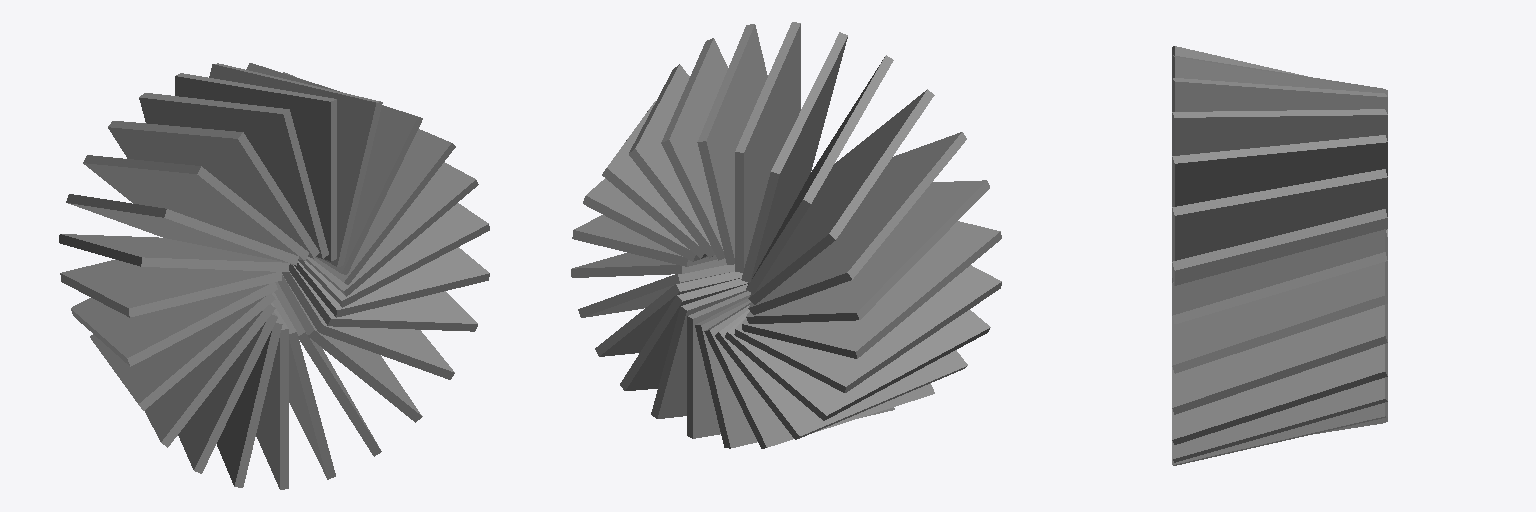
Rendered from Turbina1.obj.
3 views of the same model, side by side, from view 1: azimuth 30°, elevation 25°; view 2: azimuth 150°, elevation 25°; view 3: azimuth 270°, elevation 25° (orthographic).
Parts seen in each view (by area): view 1: Turbina; view 2: Turbina; view 3: Turbina.
Boxes of the visible parts, <box> form: Turbina: <box>59,63,489,489</box>; Turbina: <box>571,22,1001,448</box>; Turbina: <box>1172,46,1387,465</box>.
Bounding box in the file's own units: 52.34 × 52.34 × 26.93.